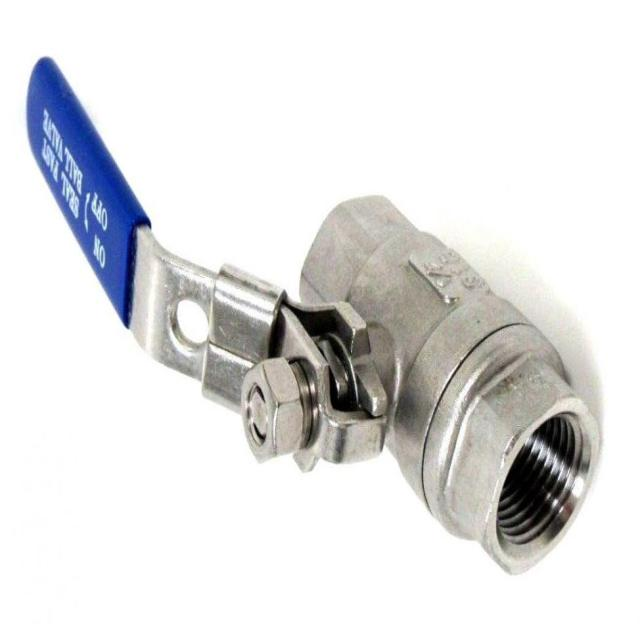opened_valve: (22, 50, 606, 578)
